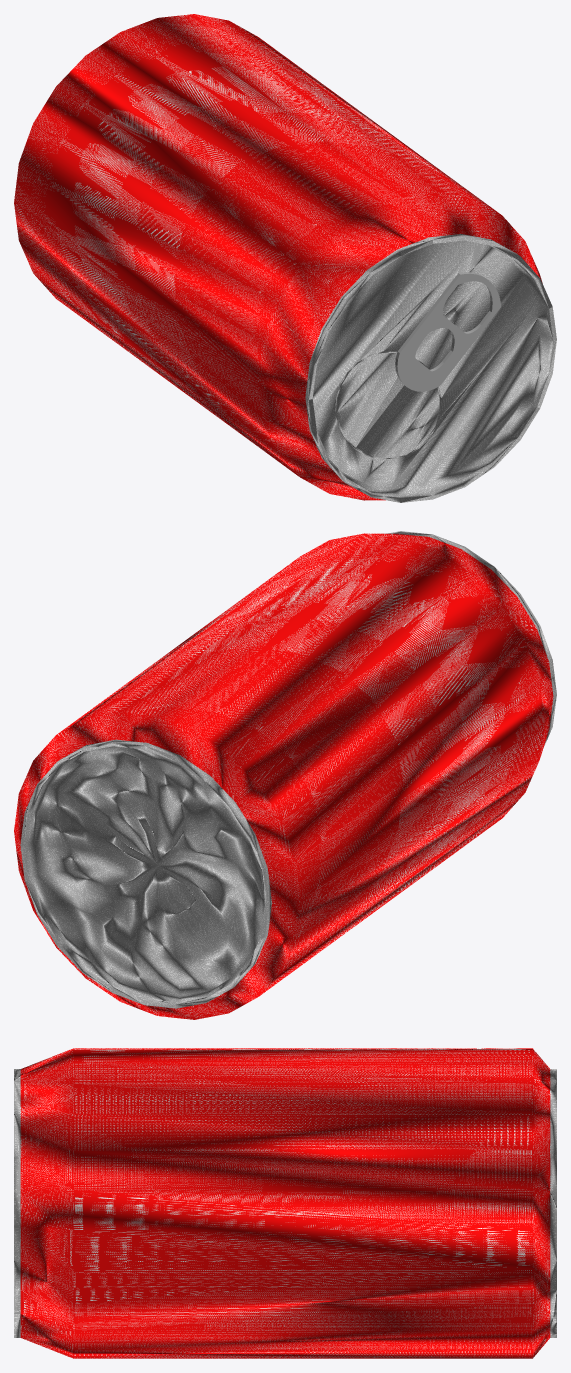
The model's file is model_align.obj.
3 views of the same model, one above another, from view 1: azimuth 30°, elevation 25°; view 2: azimuth 150°, elevation 25°; view 3: azimuth 270°, elevation 25° (orthographic). The views are drawn at different scales.
Size of the model in its own units: 0.073 by 0.073 by 0.1272.
